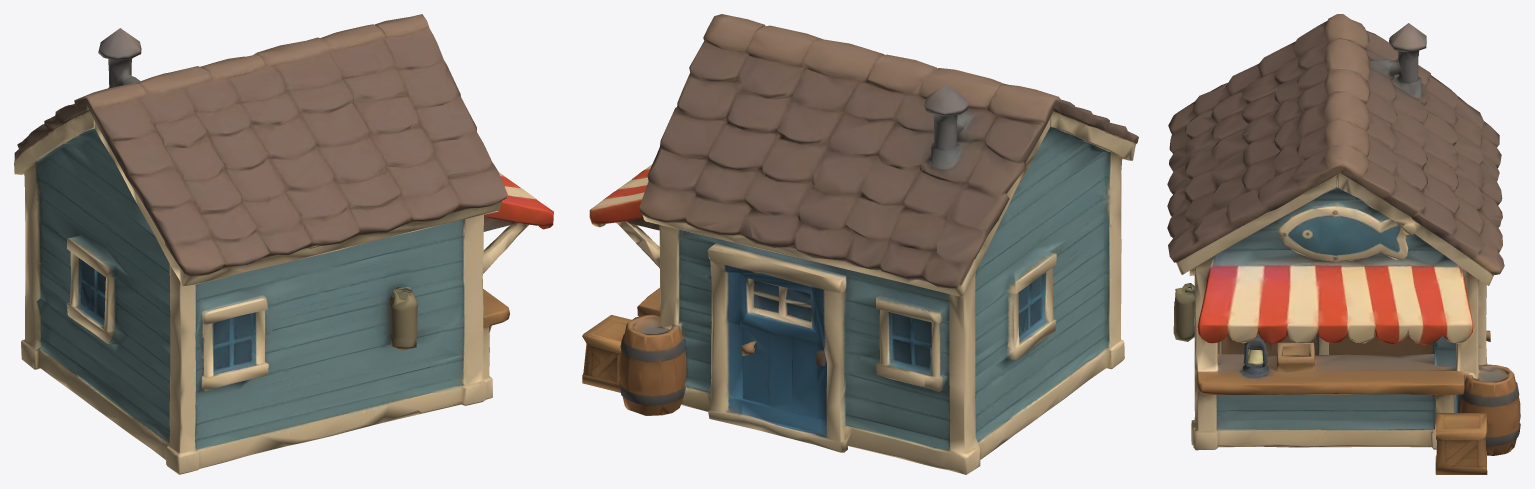
File: shop.glb
3 views of the same model, side by side, from view 1: azimuth 30°, elevation 25°; view 2: azimuth 150°, elevation 25°; view 3: azimuth 270°, elevation 25° (orthographic). The views are drawn at different scales.
Parts seen in each view (by area): view 1: tripo_node_aeda45d4-b4c0-4f6a-9bbf-14c4feb53806; view 2: tripo_node_aeda45d4-b4c0-4f6a-9bbf-14c4feb53806; view 3: tripo_node_aeda45d4-b4c0-4f6a-9bbf-14c4feb53806.
Part boxes in pixels (x1=…): tripo_node_aeda45d4-b4c0-4f6a-9bbf-14c4feb53806: x1=14, y1=14, x2=553, y2=474; tripo_node_aeda45d4-b4c0-4f6a-9bbf-14c4feb53806: x1=582, y1=14, x2=1138, y2=474; tripo_node_aeda45d4-b4c0-4f6a-9bbf-14c4feb53806: x1=1167, y1=14, x2=1520, y2=474.
Size of the model in its own units: 1 by 0.8555 by 0.8603.
1 material, 1 textured.
